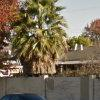Palm tree: (13, 5, 70, 76)
